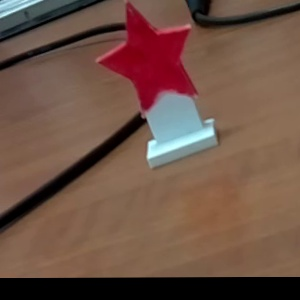star: (90, 1, 242, 171)
